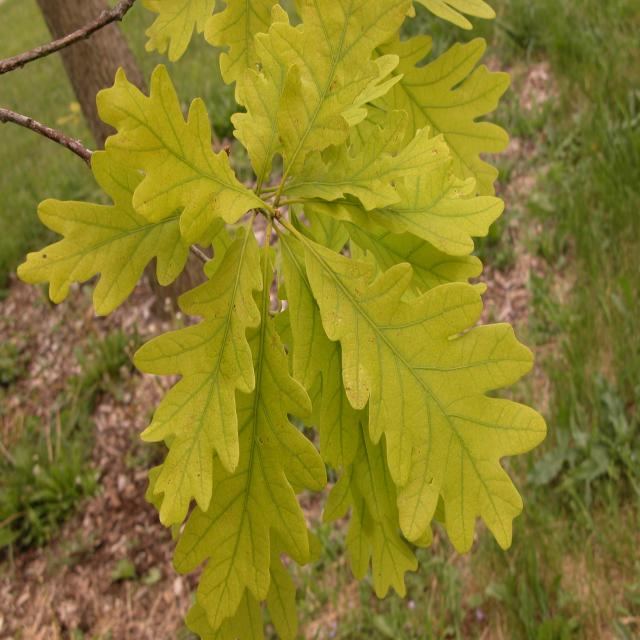Chlorosis: (40, 6, 531, 628)
